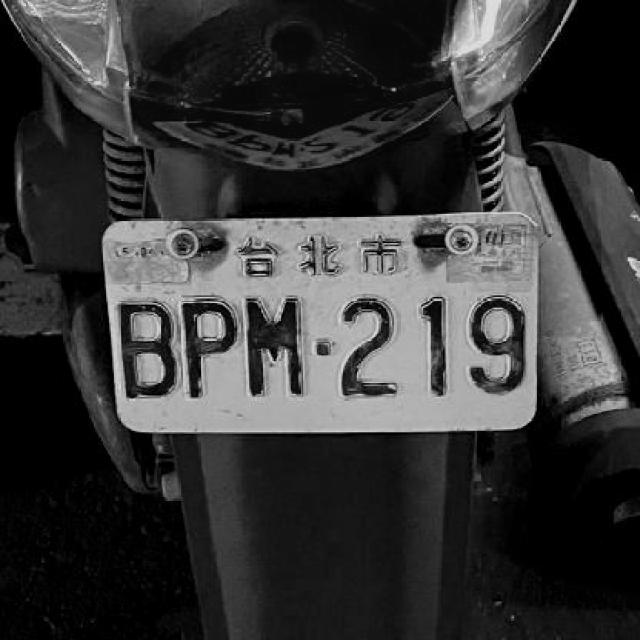-: (311, 334, 334, 361)
1: (418, 296, 449, 398)
2: (335, 293, 403, 402)
9: (469, 297, 529, 398)
B: (114, 298, 175, 398)
M: (243, 292, 306, 397)
P: (180, 294, 242, 403)
